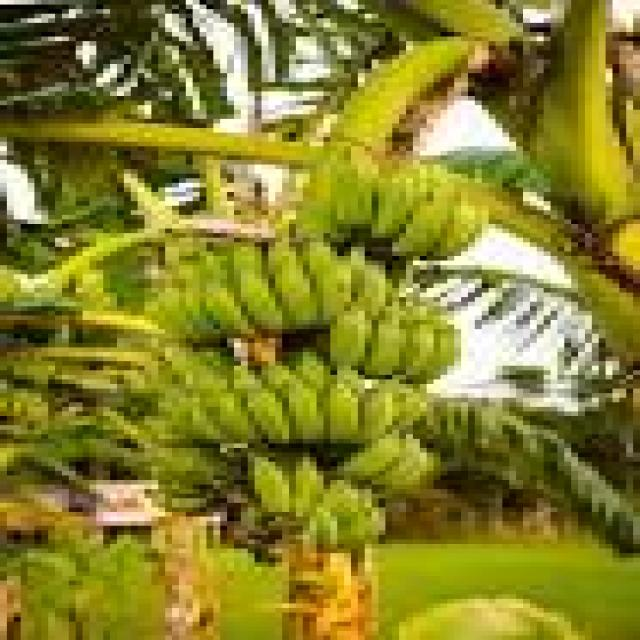banana: (296, 142, 378, 242), (228, 243, 289, 333), (193, 252, 254, 338), (372, 165, 433, 242), (331, 142, 378, 237), (393, 188, 454, 260), (269, 238, 316, 329), (303, 243, 350, 324), (427, 202, 488, 260), (338, 435, 406, 484), (379, 439, 440, 493), (365, 307, 406, 379), (200, 284, 254, 338), (324, 371, 364, 443), (241, 384, 289, 443), (351, 252, 392, 315), (214, 389, 261, 443), (331, 307, 371, 370), (283, 380, 323, 443), (400, 320, 440, 383), (248, 458, 289, 516), (420, 325, 461, 379), (358, 384, 399, 438), (290, 458, 323, 521), (606, 215, 639, 274), (290, 348, 330, 393), (393, 384, 426, 434), (303, 508, 337, 548), (0, 266, 20, 306)
